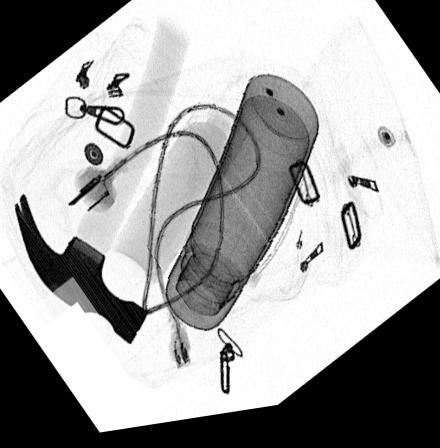Hammer: (13, 19, 194, 349)
